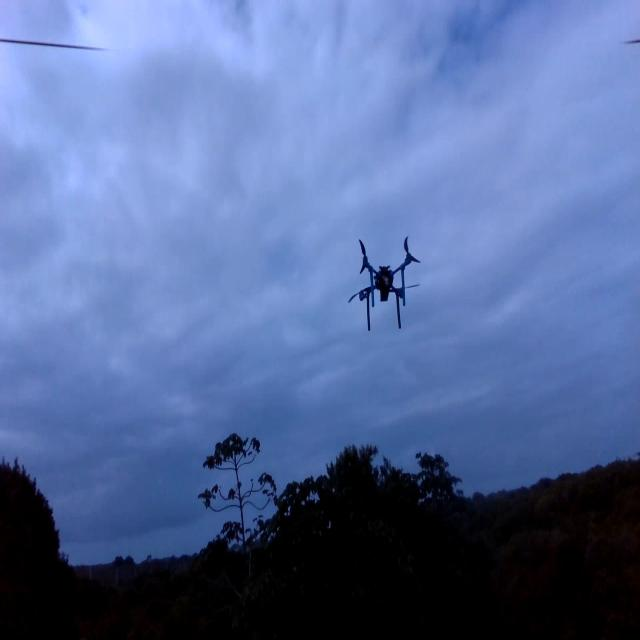-uav-: (338, 230, 432, 348)
